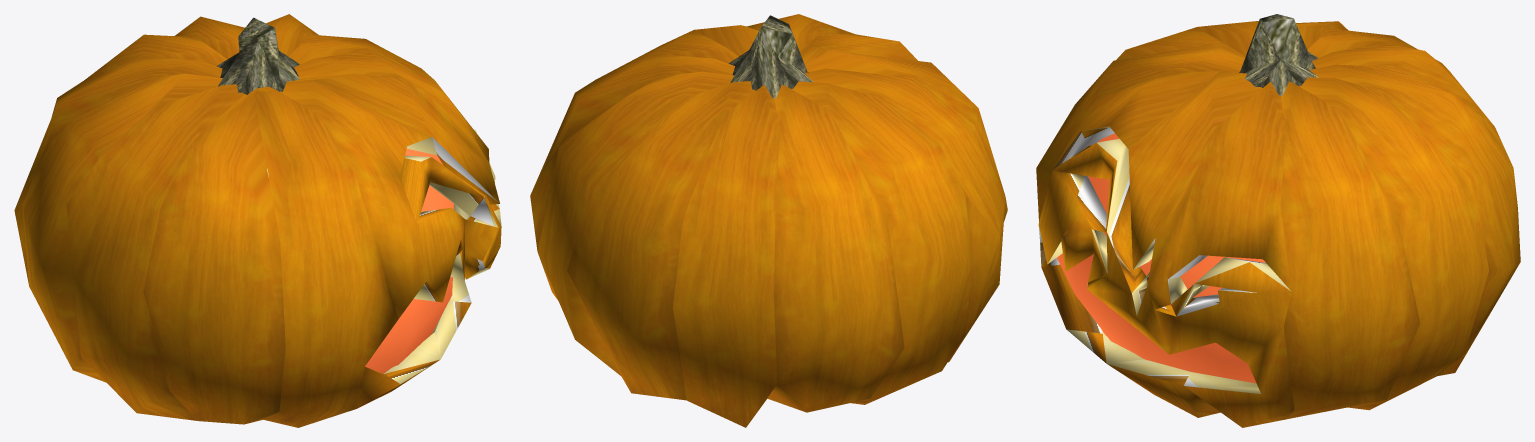
File: nangua.glb
The picture shows the model from 3 angles, left to right: view 1: azimuth 30°, elevation 25°; view 2: azimuth 150°, elevation 25°; view 3: azimuth 270°, elevation 25°; orthographic projection. The views are drawn at different scales.
Parts seen in each view (by area): view 1: 南瓜灯_04.004; view 2: 南瓜灯_04.004; view 3: 南瓜灯_04.004.
Boxes of the visible parts, x1,y1,x2,y2 form: 南瓜灯_04.004: [14, 14, 501, 427]; 南瓜灯_04.004: [530, 14, 1007, 427]; 南瓜灯_04.004: [1036, 14, 1520, 427].
Size of the model in its own units: 1.23 by 1.01 by 1.22.
Materials: 3 (2 with a texture image).
